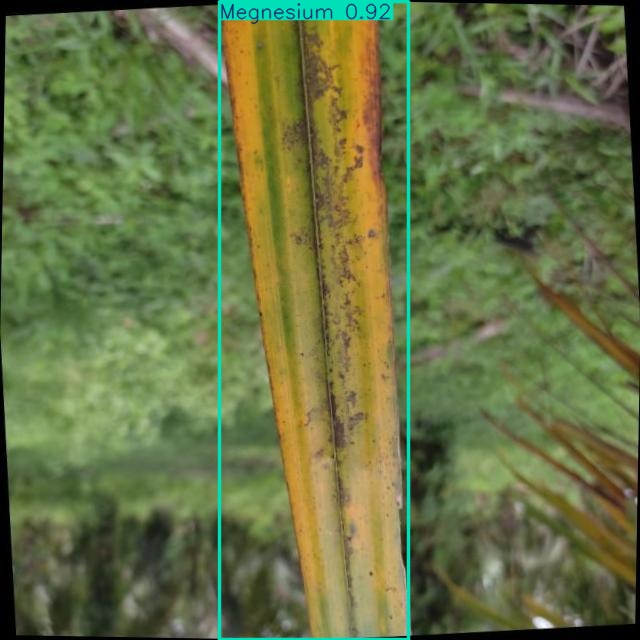Megnesium: (220, 1, 409, 639)
